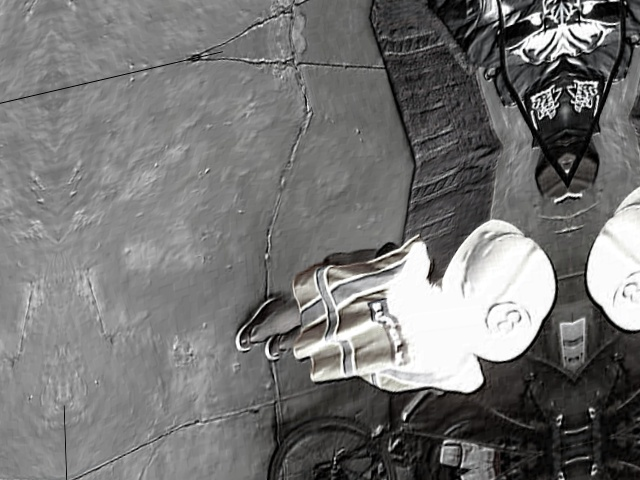eight: (482, 299, 532, 343)
